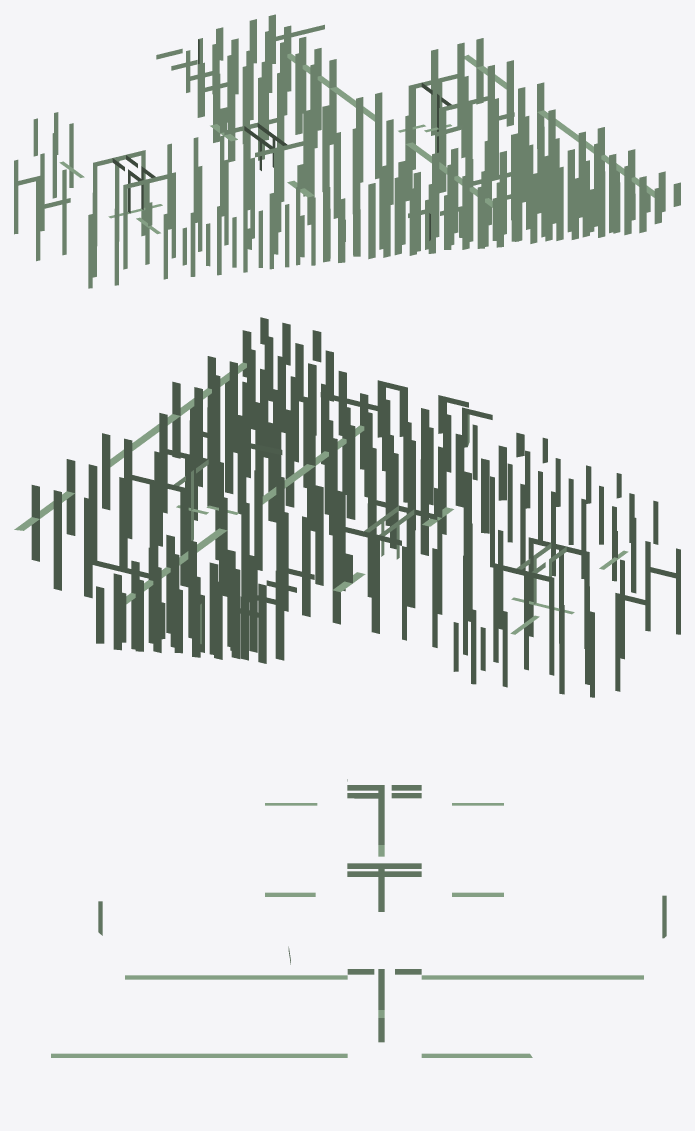
The model's file is DOUBLE_BTM_ENGINE_VOID.glb.
The picture shows the model from 3 angles, top to bottom: view 1: azimuth 30°, elevation 25°; view 2: azimuth 150°, elevation 25°; view 3: azimuth 270°, elevation 25°; orthographic projection. The views are drawn at different scales.
Visible parts, largest first — view 1: ST_TransxFR38P_001001-FB_250x12.5_NVA_1993, ST_TransxFR39P_002001-FB_250x12.5_NVA_1993, ST_TransxFR39P_003001-FB_250x12.5_NVA_1993, ST_TransxFR40P_001001-FB_250x12.5_NVA_1993, ST_TransxFR39S_001001-FB_250x12.5_NVA_1993, ST_TransxFR37S_001001-FB_250x12.5_NVA_1993, ST_TransxFR40S_001001-FB_250x12.5_NVA_1993, ST_TransxFR40P_005001-FB_250x12.5_NVA_1993, ST_TransxFR35S_001001-FB_250x12.5_NVA_1993, ST_TransxFR42S_005001-FB_250x12.5_NVA_1993, ST_TransxFR35P_083001-FB_250x12.5_NVA_1993, ST_TransxFR41S_017001-FB_250x12.5_NVA_1993 (+48 smaller); view 2: ST_TransxFR39S_003001-FB_250x12.5_NVA_1993, ST_TransxFR42S_002001-FB_250x12.5_NVA_1993, ST_TransxFR38S_001001-FB_250x12.5_NVA_1993, ST_TransxFR44P_002001-FB_250x12.5_NVA_1993, ST_TransxFR41S_019001-FB_250x12.5_NVA_1993, ST_TransxFR43P_003001-FB_250x12.5_NVA_1993, ST_TransxFR43S_006001-FB_250x12.5_NVA_1993, ST_TransxFR39P_001001-FB_250x12.5_NVA_1993, ST_TransxFR40S_001001-FB_250x12.5_NVA_1993, ST_TransxFR35S_001001-FB_250x12.5_NVA_1993, ST_TransxFR37P_001001-FB_250x12.5_NVA_1993, ST_TransxFR39S_002001-FB_250x12.5_NVA_1993 (+43 smaller); view 3: no part large enough to name.
Part boxes in pixels (left/top/right/bottom): ST_TransxFR38P_001001-FB_250x12.5_NVA_1993: left=322, top=105, right=329, bottom=191; ST_TransxFR39P_002001-FB_250x12.5_NVA_1993: left=310, top=63, right=317, bottom=148; ST_TransxFR39P_003001-FB_250x12.5_NVA_1993: left=295, top=52, right=302, bottom=134; ST_TransxFR40P_001001-FB_250x12.5_NVA_1993: left=375, top=92, right=382, bottom=179; ST_TransxFR39S_001001-FB_250x12.5_NVA_1993: left=386, top=119, right=393, bottom=204; ST_TransxFR37S_001001-FB_250x12.5_NVA_1993: left=333, top=132, right=340, bottom=218; ST_TransxFR40S_001001-FB_250x12.5_NVA_1993: left=405, top=114, right=412, bottom=201; ST_TransxFR40P_005001-FB_250x12.5_NVA_1993: left=329, top=59, right=336, bottom=144; ST_TransxFR35S_001001-FB_250x12.5_NVA_1993: left=274, top=151, right=281, bottom=232; ST_TransxFR42S_005001-FB_250x12.5_NVA_1993: left=556, top=166, right=563, bottom=240; ST_TransxFR35P_083001-FB_250x12.5_NVA_1993: left=243, top=129, right=250, bottom=210; ST_TransxFR41S_017001-FB_250x12.5_NVA_1993: left=439, top=111, right=446, bottom=193; ST_TransxFR39S_003001-FB_250x12.5_NVA_1993: left=346, top=424, right=355, bottom=519; ST_TransxFR42S_002001-FB_250x12.5_NVA_1993: left=237, top=415, right=246, bottom=514; ST_TransxFR38S_001001-FB_250x12.5_NVA_1993: left=315, top=485, right=323, bottom=585; ST_TransxFR44P_002001-FB_250x12.5_NVA_1993: left=53, top=490, right=61, bottom=590; ST_TransxFR41S_019001-FB_250x12.5_NVA_1993: left=285, top=409, right=294, bottom=507; ST_TransxFR43P_003001-FB_250x12.5_NVA_1993: left=84, top=497, right=92, bottom=598; ST_TransxFR43S_006001-FB_250x12.5_NVA_1993: left=225, top=394, right=233, bottom=493; ST_TransxFR39P_001001-FB_250x12.5_NVA_1993: left=241, top=501, right=249, bottom=601; ST_TransxFR40S_001001-FB_250x12.5_NVA_1993: left=254, top=470, right=262, bottom=570; ST_TransxFR35S_001001-FB_250x12.5_NVA_1993: left=406, top=513, right=415, bottom=608; ST_TransxFR37P_001001-FB_250x12.5_NVA_1993: left=302, top=516, right=310, bottom=616; ST_TransxFR39S_002001-FB_250x12.5_NVA_1993: left=329, top=437, right=337, bottom=535.
Size of the model in its own units: 17.1 by 2.79 by 16.2.
